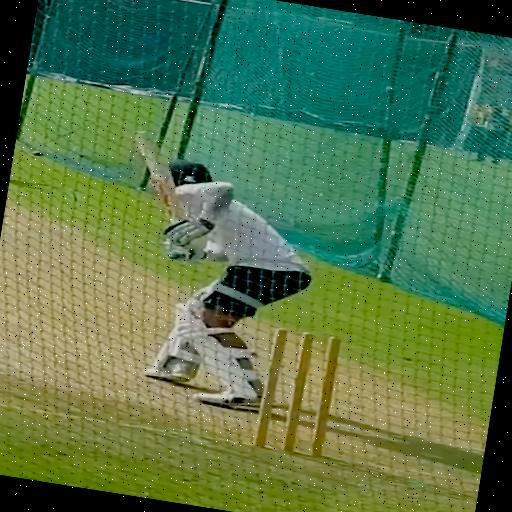Cricket bat: (134, 132, 182, 217)
